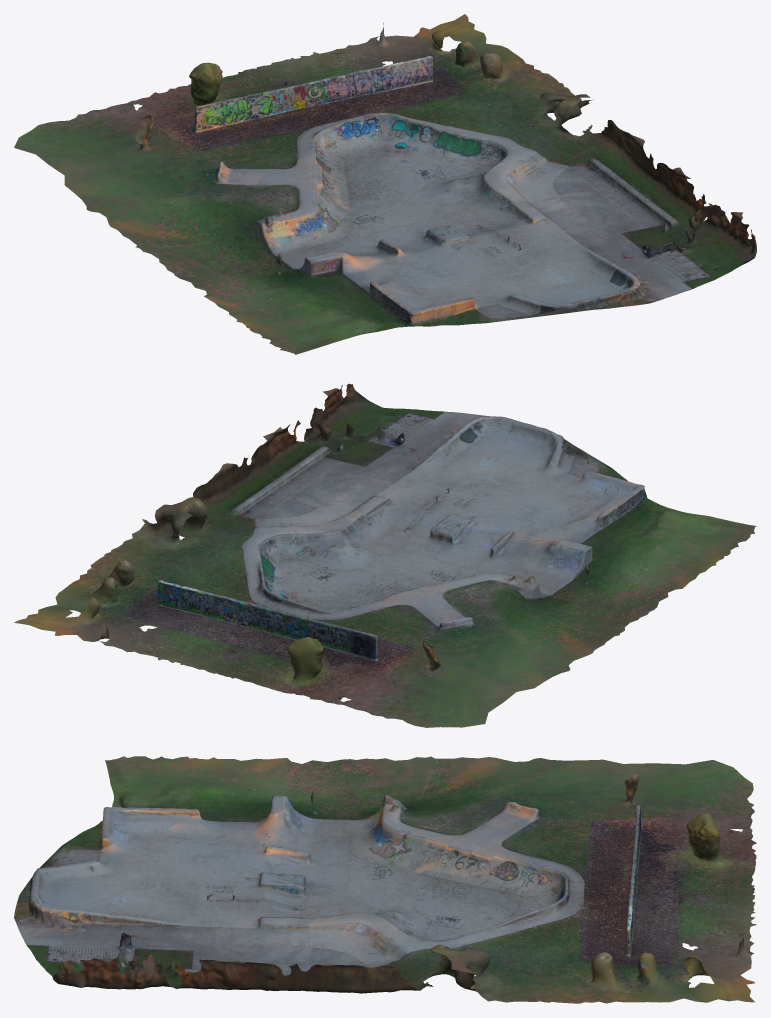
File: airport_skatepark_game.glb
The picture shows the model from 3 angles, top to bottom: view 1: azimuth 30°, elevation 25°; view 2: azimuth 150°, elevation 25°; view 3: azimuth 270°, elevation 25°; orthographic projection. The views are drawn at different scales.
Parts seen in each view (by area): view 1: Mesh; view 2: Mesh; view 3: Mesh.
Part boxes in pixels (left/top/right/bottom): Mesh: left=14, top=14, right=756, bottom=354; Mesh: left=14, top=383, right=756, bottom=727; Mesh: left=14, top=756, right=756, bottom=1003.
Size of the model in its own units: 48.34 by 5.19 by 59.89.
Materials: 1 (1 with a texture image).
